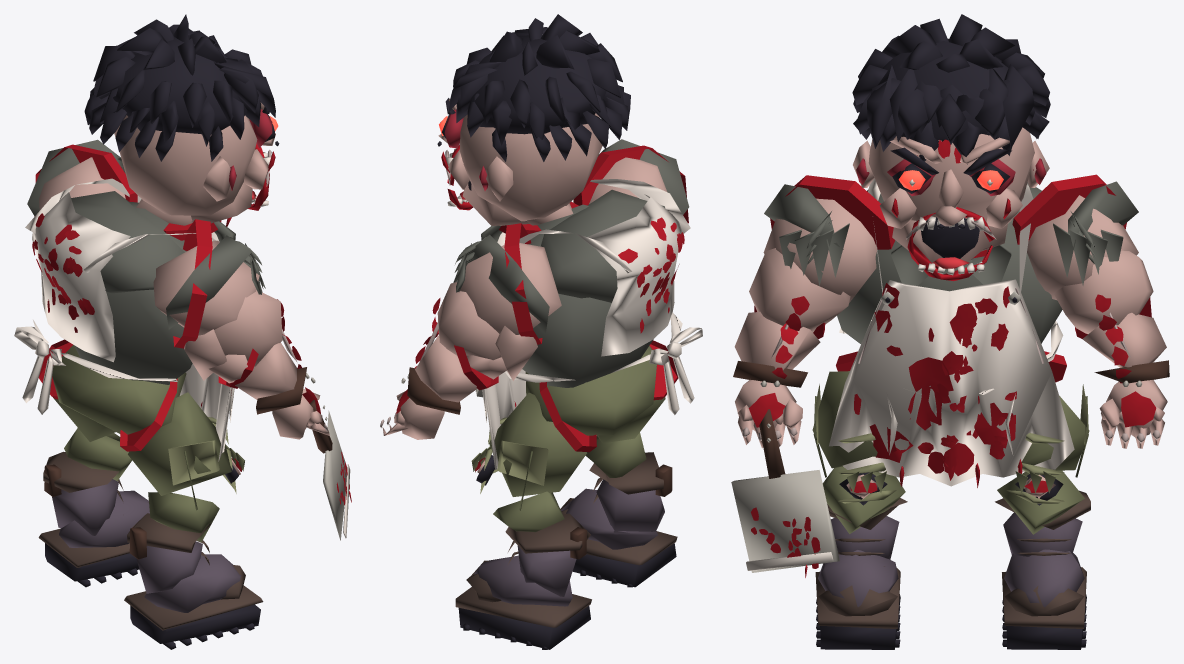
The picture shows the model from 3 angles, left to right: view 1: azimuth 30°, elevation 25°; view 2: azimuth 150°, elevation 25°; view 3: azimuth 270°, elevation 25°; orthographic projection. The views are drawn at different scales.
Visible parts, largest first — view 1: head, torso, footR, armR, footL, legR, hip, foreArmR, armL, weaponSocketR__mesh, shinR, stump_armR (+5 smaller); view 2: head, torso, footL, armL, footR, legL, hip, foreArmL, armR, shinL, handL, shinR (+6 smaller); view 3: torso, head, armR, armL, footL, footR, weaponSocketR__mesh, foreArmR, legR, foreArmL, legL, handL (+5 smaller).
Part boxes in pixels (x1=…): head: x1=84, y1=14, x2=279, y2=226; torso: x1=14, y1=178, x2=235, y2=461; footR: x1=124, y1=513, x2=263, y2=649; armR: x1=153, y1=235, x2=284, y2=380; footL: x1=38, y1=451, x2=149, y2=587; legR: x1=128, y1=392, x2=244, y2=510; hip: x1=52, y1=345, x2=186, y2=434; foreArmR: x1=209, y1=329, x2=315, y2=414; armL: x1=27, y1=139, x2=125, y2=216; weaponSocketR__mesh: x1=310, y1=400, x2=351, y2=540; shinR: x1=148, y1=492, x2=219, y2=542; stump_armR: x1=173, y1=219, x2=212, y2=348; head: x1=437, y1=14, x2=630, y2=225; torso: x1=481, y1=179, x2=702, y2=469; footL: x1=455, y1=513, x2=591, y2=649; armL: x1=432, y1=234, x2=561, y2=380; footR: x1=560, y1=452, x2=677, y2=587; legL: x1=471, y1=392, x2=586, y2=510; hip: x1=525, y1=346, x2=656, y2=435; foreArmL: x1=401, y1=321, x2=506, y2=414; armR: x1=573, y1=139, x2=689, y2=214; shinL: x1=493, y1=491, x2=564, y2=532; handL: x1=380, y1=389, x2=444, y2=439; shinR: x1=585, y1=432, x2=646, y2=477; torso: x1=829, y1=178, x2=1074, y2=487; head: x1=852, y1=14, x2=1050, y2=281; armR: x1=749, y1=184, x2=876, y2=332; armL: x1=1027, y1=181, x2=1153, y2=333; footL: x1=995, y1=490, x2=1090, y2=649; footR: x1=815, y1=498, x2=907, y2=649; weaponSocketR__mesh: x1=731, y1=409, x2=839, y2=577; foreArmR: x1=733, y1=312, x2=820, y2=387; legR: x1=812, y1=371, x2=896, y2=505; foreArmL: x1=1082, y1=312, x2=1169, y2=387; legL: x1=1006, y1=384, x2=1089, y2=505; handL: x1=1099, y1=379, x2=1167, y2=448.
Bounding box in the file's own units: 0.8894 × 1.8 × 1.16.
